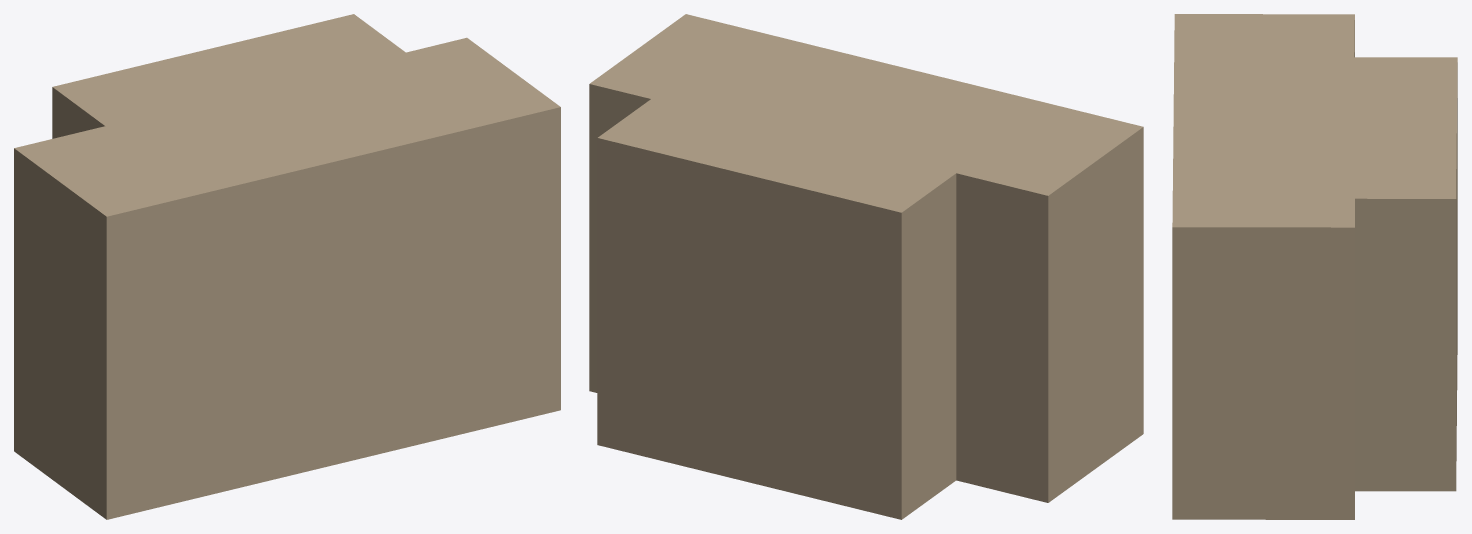
File: bld_101353597.dae
The picture shows the model from 3 angles, left to right: view 1: azimuth 30°, elevation 25°; view 2: azimuth 150°, elevation 25°; view 3: azimuth 270°, elevation 25°; orthographic projection. The views are drawn at different scales.
Visible parts, largest first — view 1: bld_101353597; view 2: bld_101353597; view 3: bld_101353597.
Boxes of the visible parts, x1,y1,x2,y2 form: bld_101353597: (14,14,560,519); bld_101353597: (589,14,1143,519); bld_101353597: (1172,14,1457,519).
Size of the model in its own units: 12.53 by 7.07 by 8.
